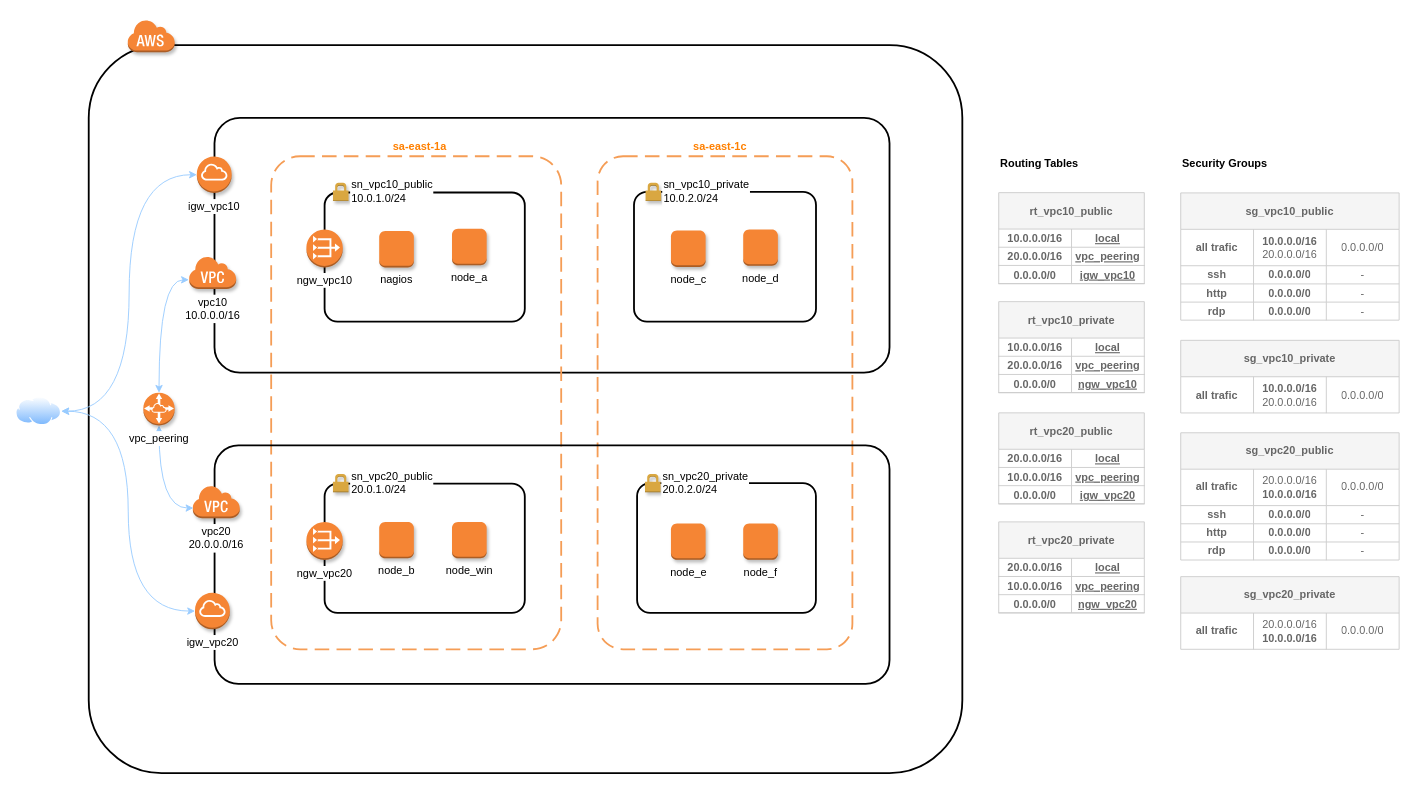
The diagram is 1415 pixels wide and 790 high, and some of its shapes have lost their labels. Here are the shapes that lost their labels. From the top down, the centre of each, then its label:
At (151,37): "sa-east-1".
At (38,410): "Internet".
